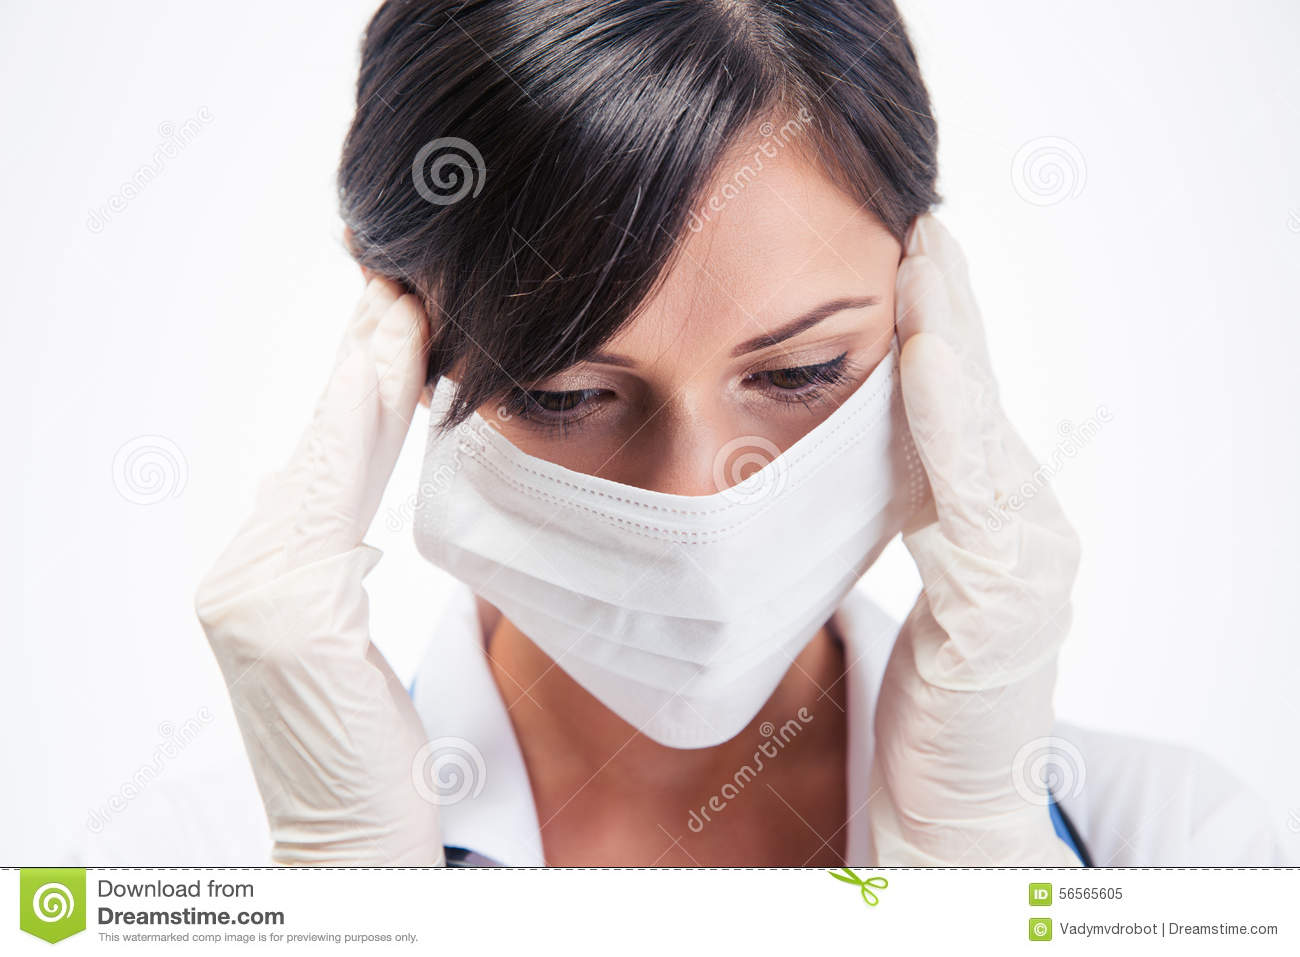mask: (406, 386, 941, 796)
